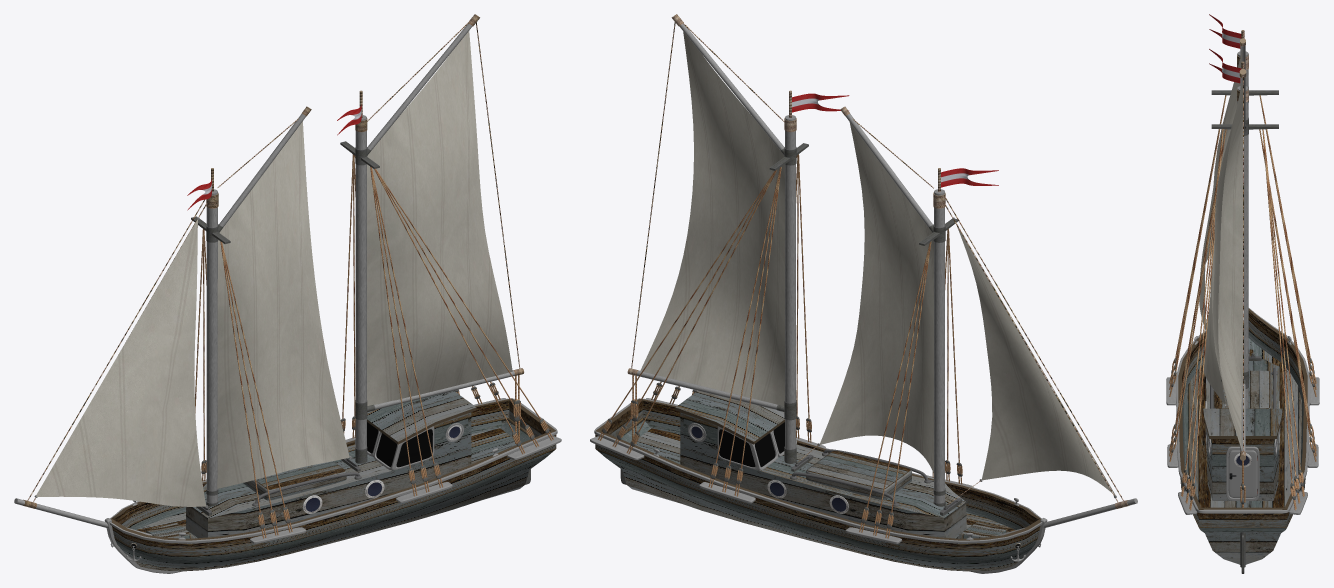
Rendered from ship_01.glb.
3 renders of one model, left to right at view 1: azimuth 30°, elevation 25°; view 2: azimuth 150°, elevation 25°; view 3: azimuth 270°, elevation 25°, orthographic.
Parts seen in each view (by area): view 1: Object_3, Object_23, Object_19, Object_25, Object_16, Object_15, Object_2, Object_28, Object_11, Object_32, Object_31, Object_34 (+3 smaller); view 2: Object_3, Object_23, Object_19, Object_25, Object_16, Object_15, Object_2, Object_28, Object_11, Object_32, Object_22, Object_31 (+5 smaller); view 3: Object_23, Object_3, Object_25, Object_19, Object_28, Object_16, Object_20, Object_29, Object_33, Object_31, Object_15, Object_22 (+10 smaller).
Part boxes in pixels (bbox=[...]): Object_3: bbox=[36, 31, 512, 506]; Object_23: bbox=[112, 412, 556, 571]; Object_19: bbox=[14, 23, 561, 539]; Object_25: bbox=[111, 390, 555, 540]; Object_16: bbox=[105, 398, 557, 573]; Object_15: bbox=[23, 14, 524, 508]; Object_2: bbox=[367, 422, 432, 467]; Object_28: bbox=[375, 169, 553, 447]; Object_11: bbox=[206, 141, 379, 506]; Object_32: bbox=[341, 154, 417, 496]; Object_31: bbox=[352, 155, 429, 492]; Object_34: bbox=[201, 231, 278, 535]; Object_3: bbox=[640, 32, 1115, 495]; Object_23: bbox=[595, 412, 1040, 571]; Object_19: bbox=[590, 24, 1137, 539]; Object_25: bbox=[596, 391, 1041, 540]; Object_16: bbox=[594, 398, 1046, 573]; Object_15: bbox=[627, 14, 1128, 508]; Object_2: bbox=[719, 422, 784, 467]; Object_28: bbox=[598, 171, 775, 447]; Object_11: bbox=[769, 143, 947, 509]; Object_32: bbox=[734, 154, 811, 496]; Object_22: bbox=[792, 93, 998, 187]; Object_31: bbox=[722, 158, 799, 492]; Object_23: bbox=[1180, 338, 1305, 564]; Object_3: bbox=[1199, 50, 1242, 449]; Object_25: bbox=[1178, 308, 1307, 509]; Object_19: bbox=[1167, 45, 1318, 514]; Object_28: bbox=[1185, 129, 1300, 510]; Object_16: bbox=[1166, 308, 1319, 513]; Object_20: bbox=[1226, 446, 1259, 500]; Object_29: bbox=[1181, 131, 1304, 496]; Object_33: bbox=[1169, 95, 1316, 396]; Object_31: bbox=[1169, 139, 1316, 456]; Object_15: bbox=[1226, 30, 1251, 460]; Object_22: bbox=[1209, 14, 1241, 83].
Bounding box in the file's own units: 10.87 × 9.64 × 2.78.
Materials: 13 (12 with a texture image).
